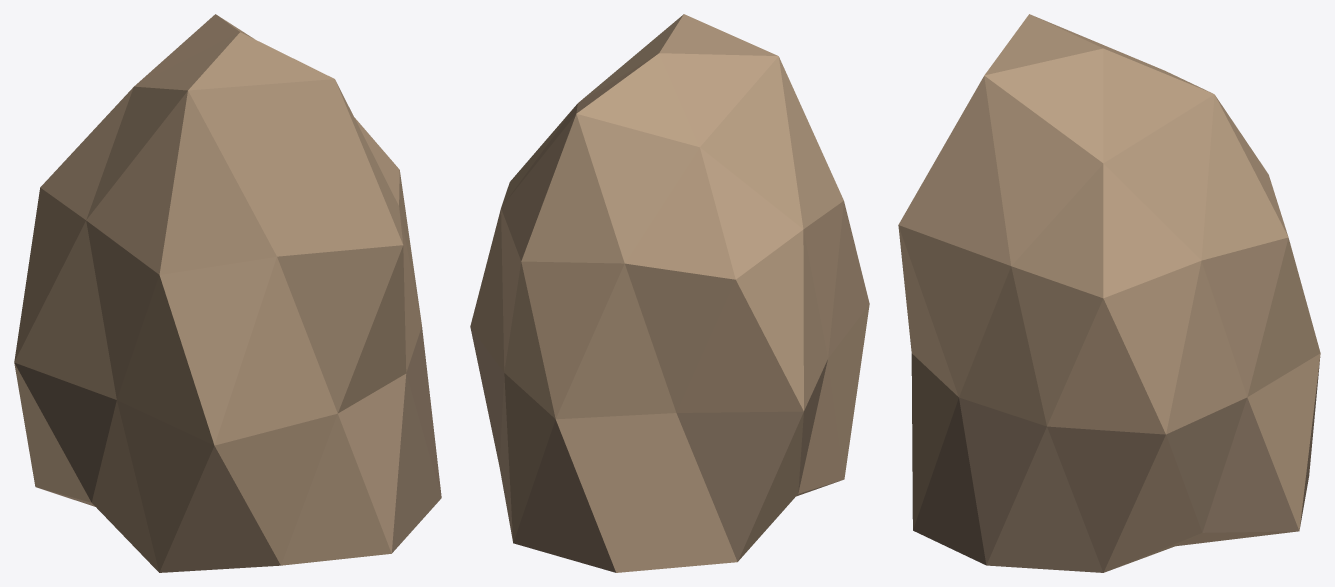
File: wasteland_rock.glb
3 renders of one model, left to right at view 1: azimuth 30°, elevation 25°; view 2: azimuth 150°, elevation 25°; view 3: azimuth 270°, elevation 25°, orthographic. The views are drawn at different scales.
Visible parts, largest first — view 1: StratifiedRock; view 2: StratifiedRock; view 3: StratifiedRock.
Part boxes in pixels (x1,y1,x2,y2): StratifiedRock: (14,14,441,572); StratifiedRock: (470,14,869,572); StratifiedRock: (898,14,1320,572).
Size of the model in its own units: 1.96 by 2.41 by 2.02.
